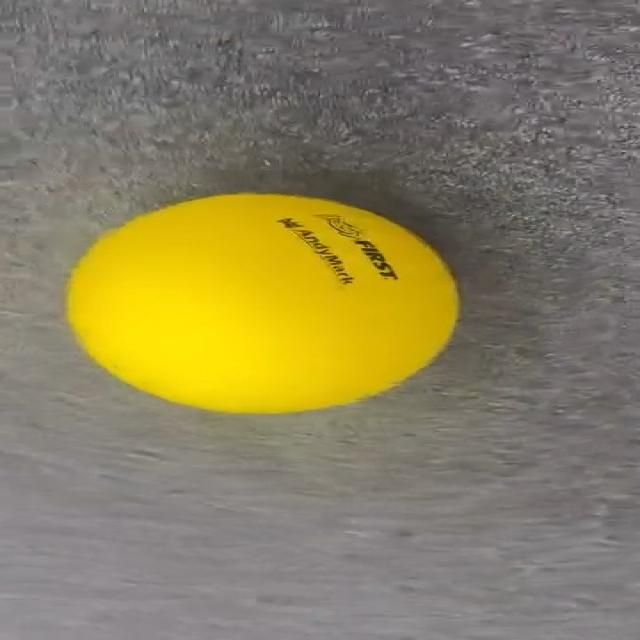Fuels: (69, 194, 455, 412)
